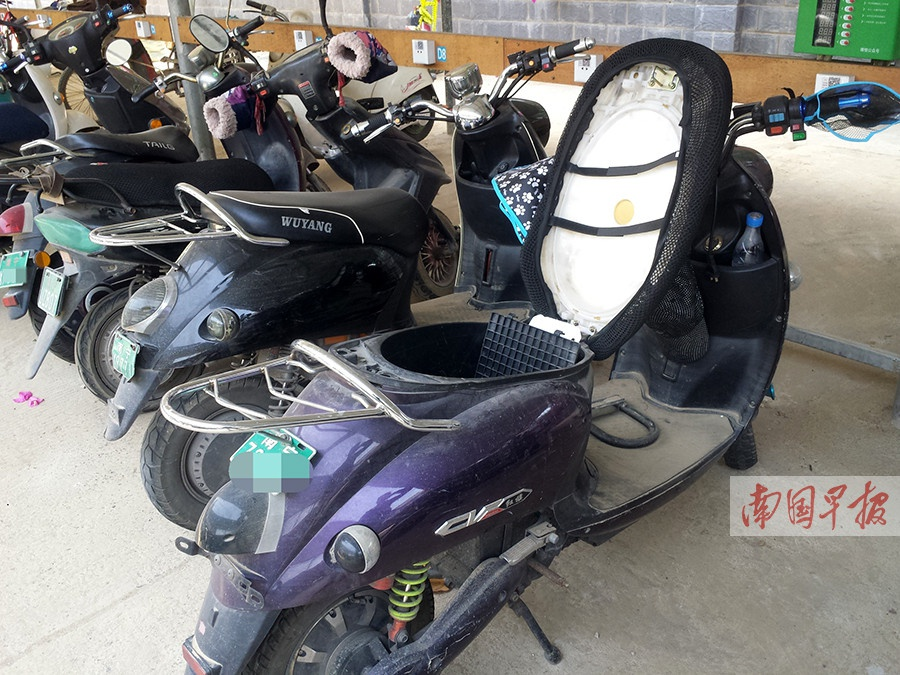non-vehicle: (187, 82, 888, 671), (126, 31, 603, 546), (42, 29, 454, 392)
